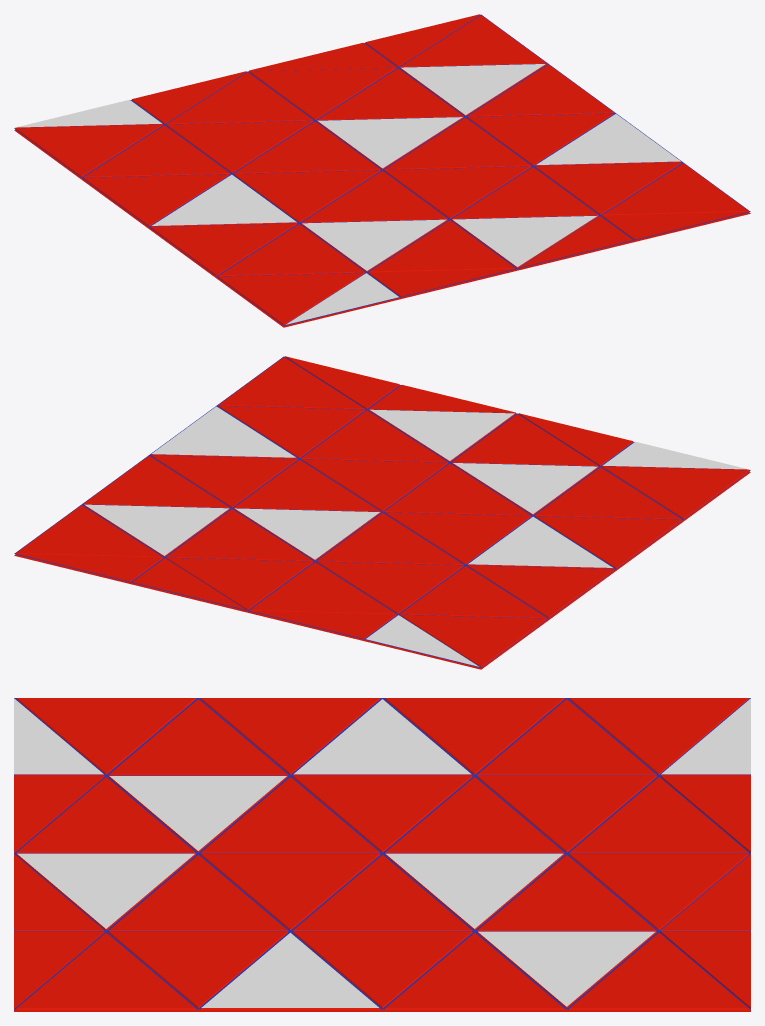
The model's file is isoceles_floor.fbx.
3 renders of one model, top to bottom at view 1: azimuth 30°, elevation 25°; view 2: azimuth 150°, elevation 25°; view 3: azimuth 270°, elevation 25°, orthographic. The views are drawn at different scales.
Visible parts, largest first — view 1: Plane.001; view 2: Plane.001; view 3: Plane.001.
Part boxes in pixels (x1=…): Plane.001: x1=14, y1=14, x2=750, y2=327; Plane.001: x1=14, y1=356, x2=750, y2=669; Plane.001: x1=14, y1=698, x2=750, y2=1011.
Size of the model in its own units: 1000 by 4.9 by 1000.
